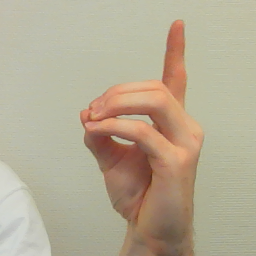D: (77, 18, 210, 238)
